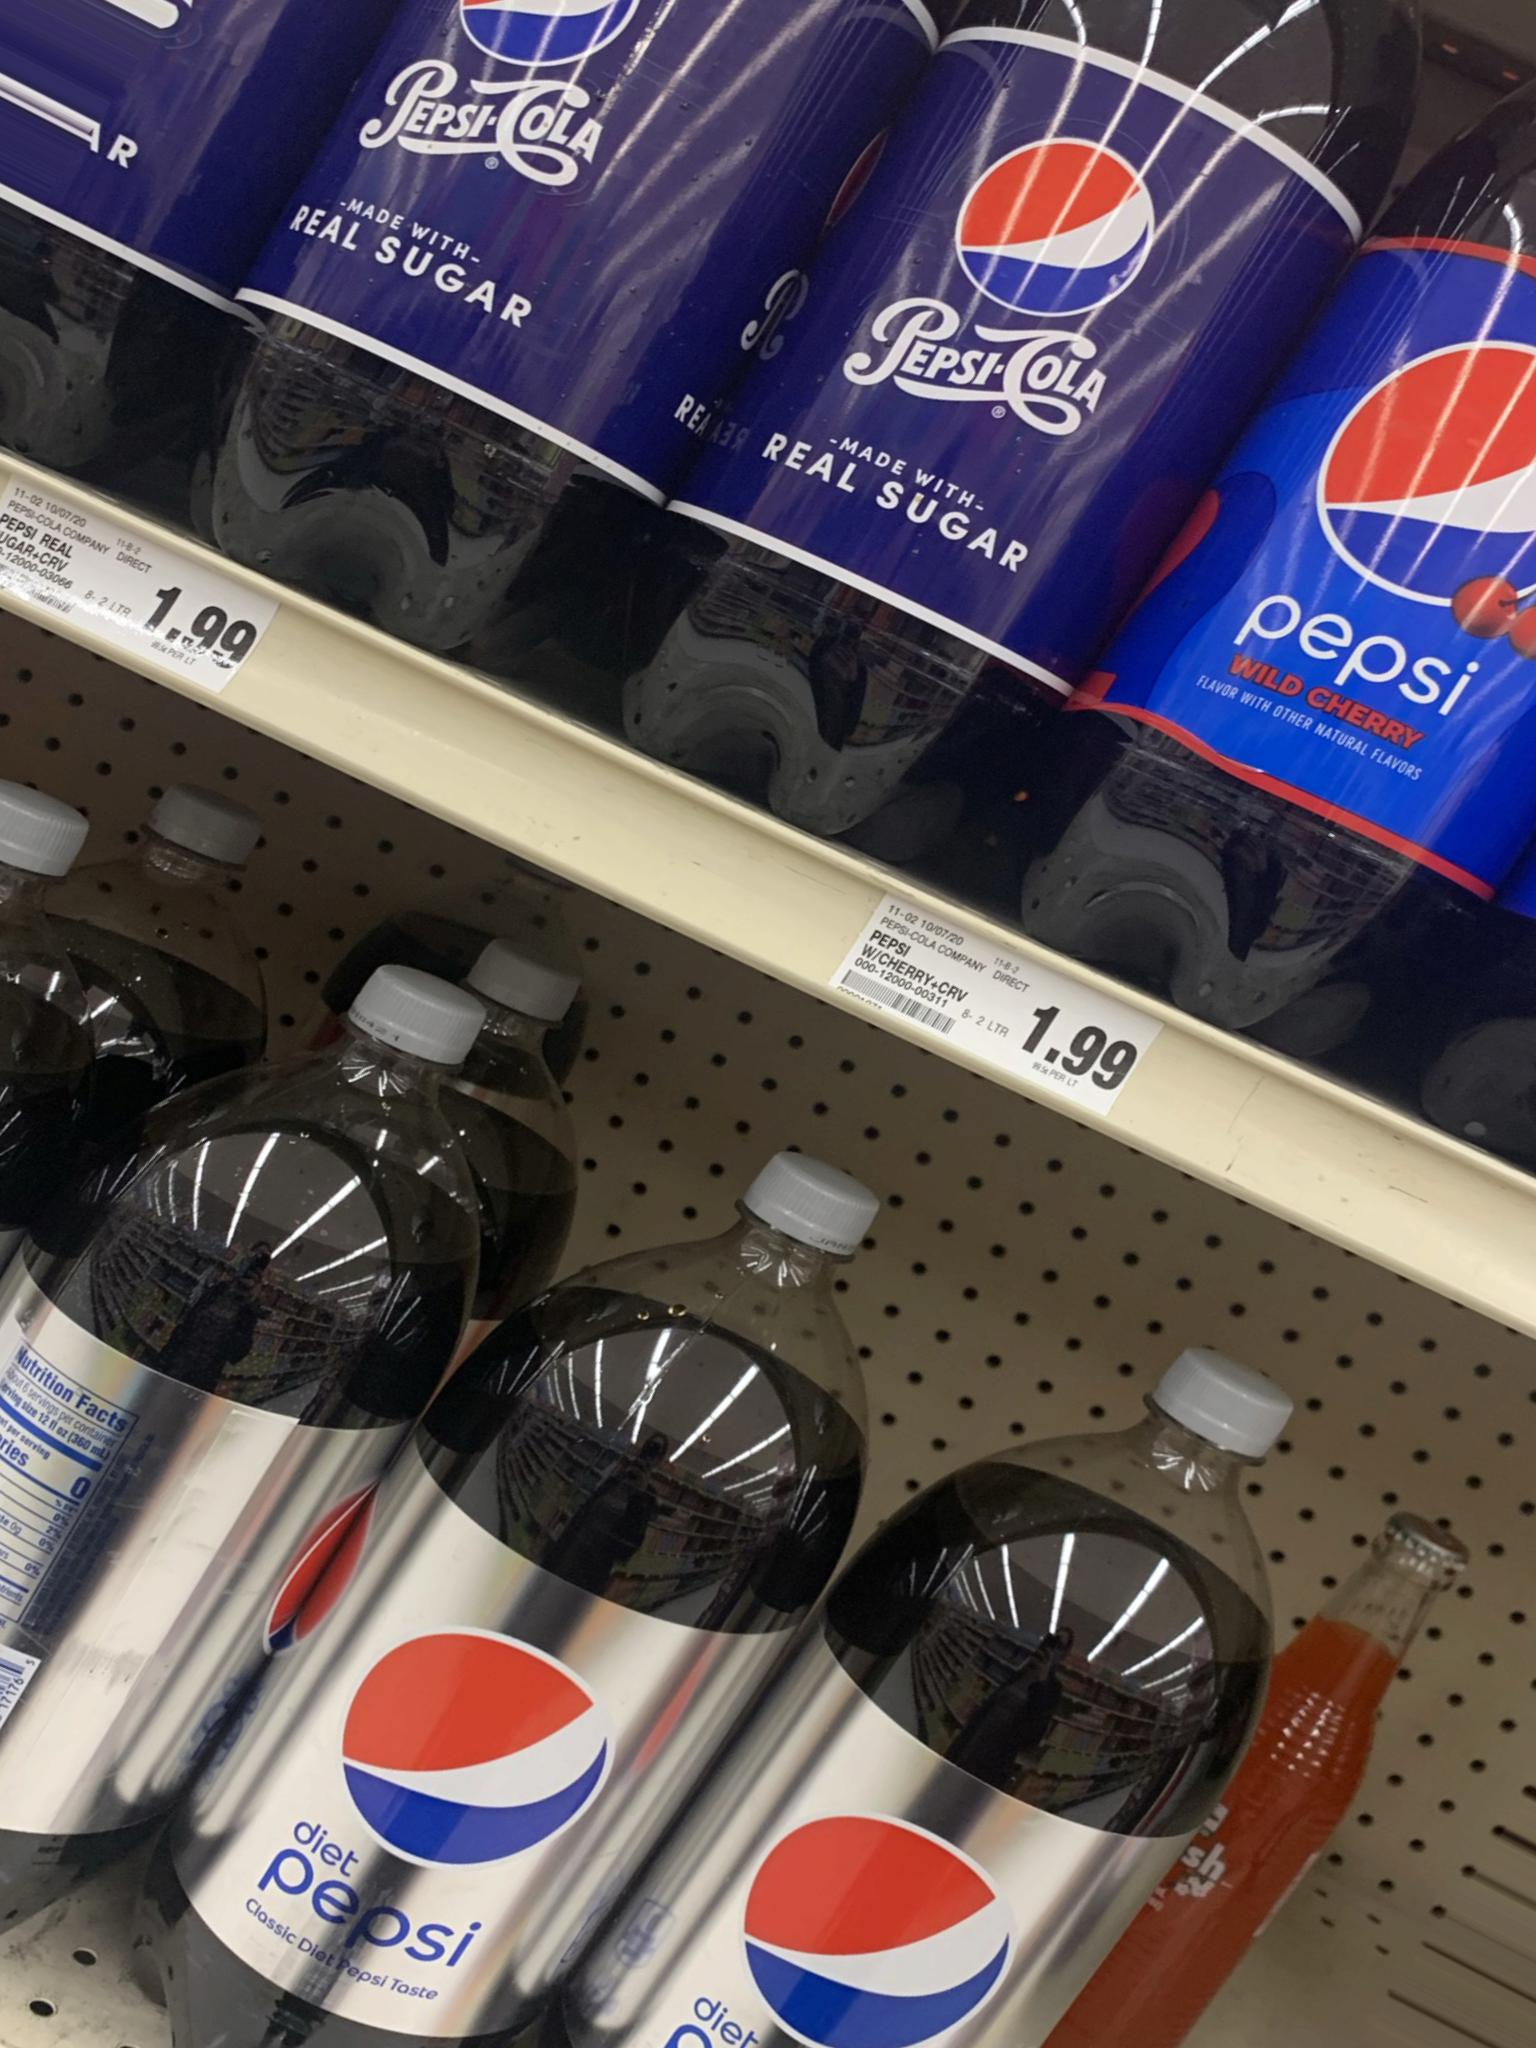soda: (190, 1161, 1104, 2048), (207, 27, 1460, 648)
